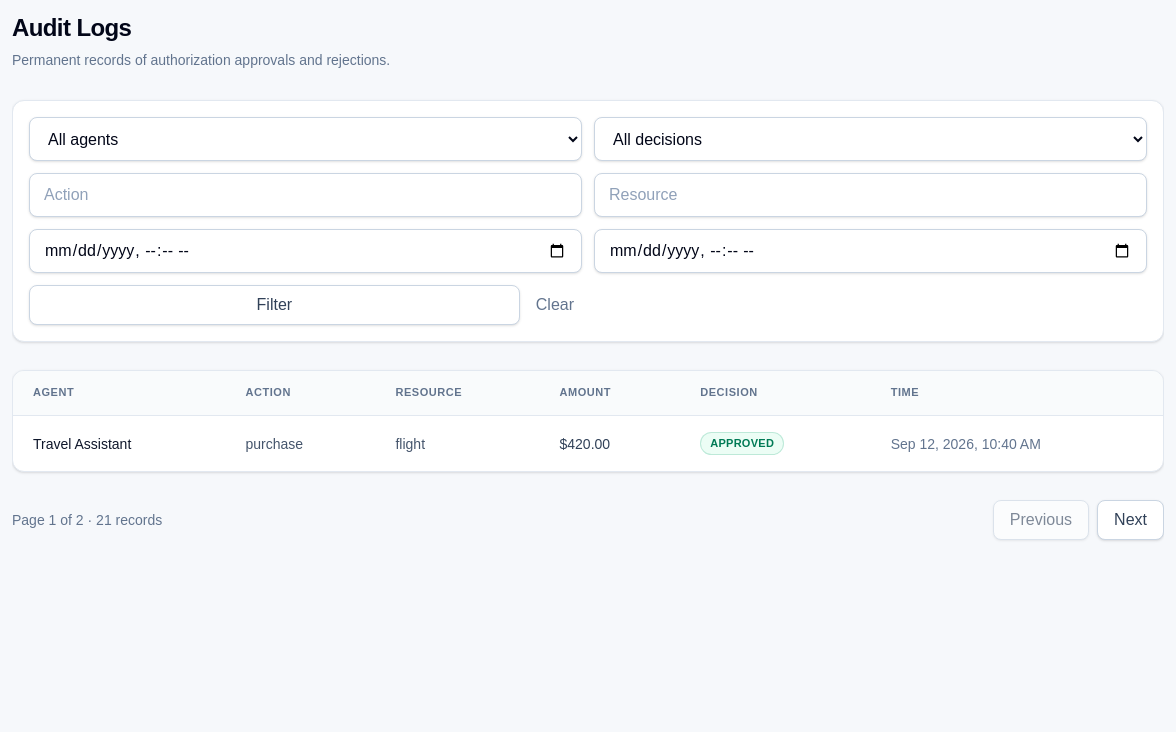
Test: audit pagination requests the next page
What coordinates should you click on to do the following:
click the button "Next"
I would click on:
 (1131, 520)
Its box is [1097,500,1164,540].
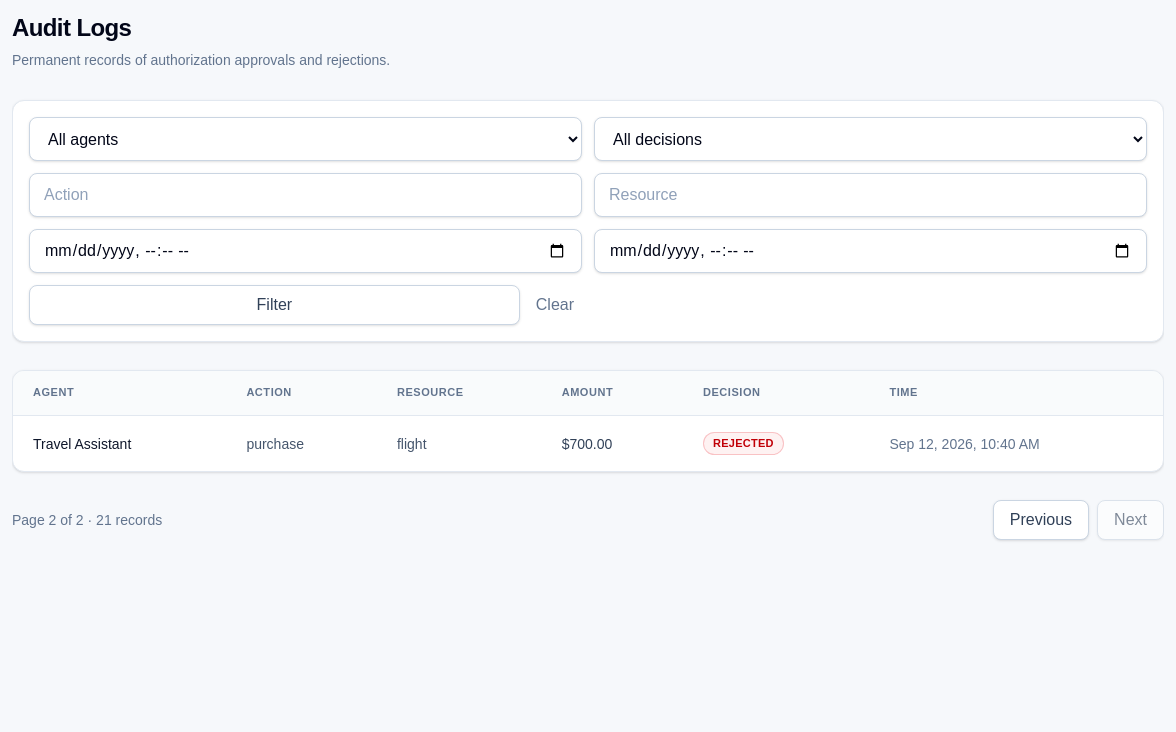
expect the text "Page 2 of 2 · 21 records" is shown: met, box [12,510,162,530]
